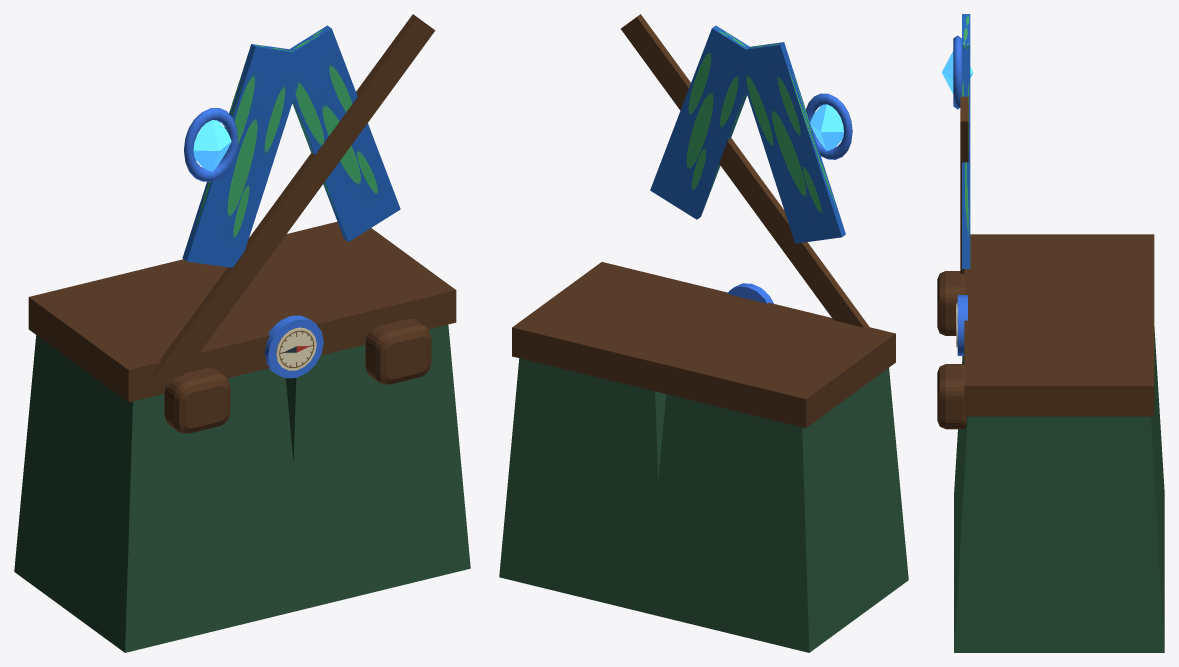
The model's file is eqf_eqsa1.glb.
3 renders of one model, left to right at view 1: azimuth 30°, elevation 25°; view 2: azimuth 150°, elevation 25°; view 3: azimuth 270°, elevation 25°, orthographic. The views are drawn at different scales.
Bounding box in the file's own units: 2.24 × 3.52 × 1.34.
Materials: 7 (3 with a texture image).
